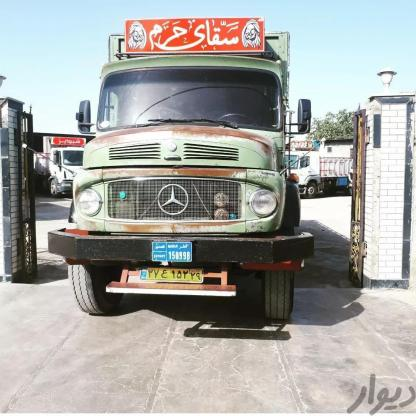Truck: (73, 13, 323, 332), (32, 130, 89, 202), (271, 143, 355, 190)
